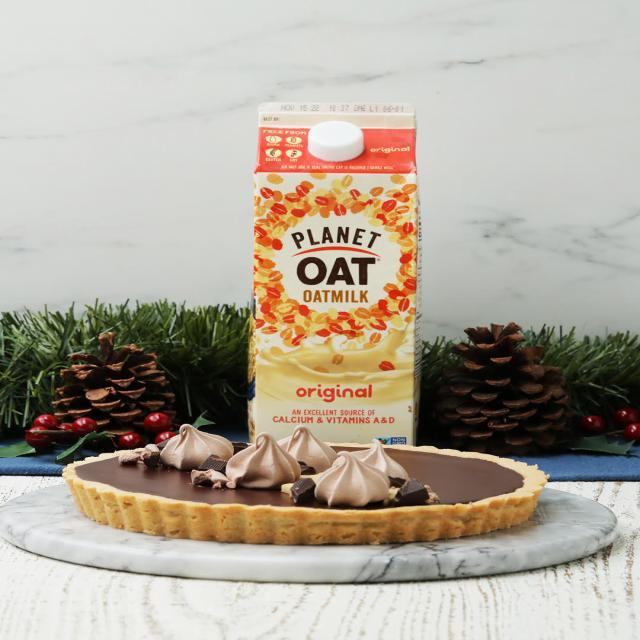Planet Oat Original: (248, 90, 426, 457)
